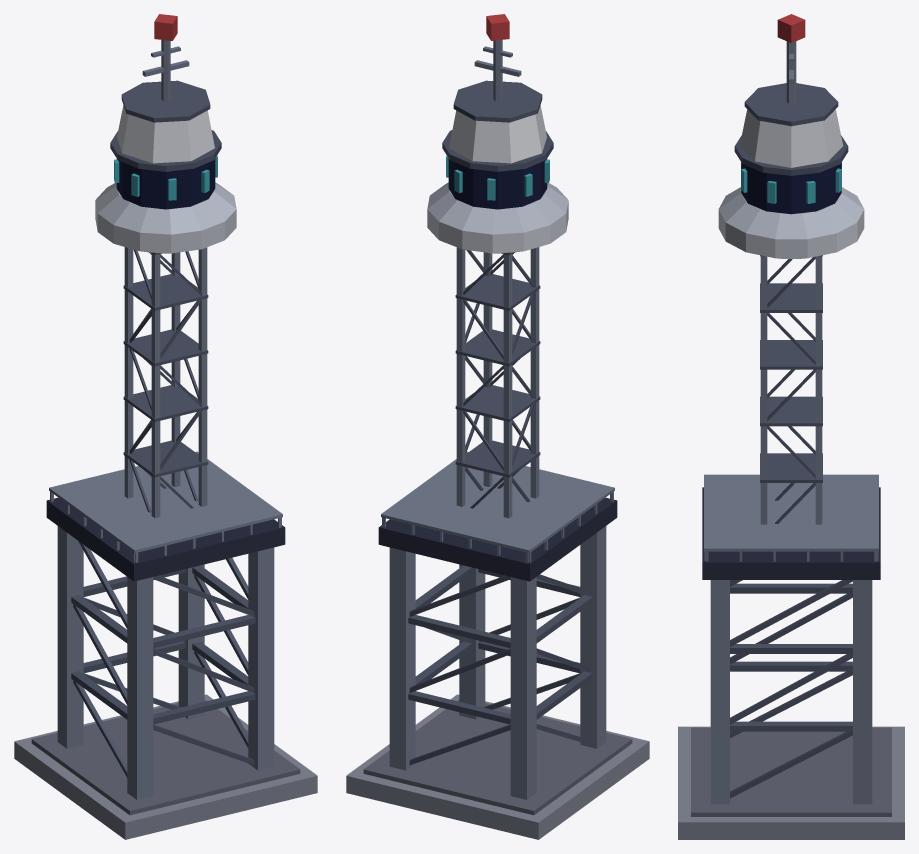
File: Decor_Observatory_Spire.fbx
3 views of the same model, side by side, from view 1: azimuth 30°, elevation 25°; view 2: azimuth 150°, elevation 25°; view 3: azimuth 270°, elevation 25° (orthographic). The views are drawn at different scales.
Visible parts, largest first — view 1: Spire_Body; view 2: Spire_Body; view 3: Spire_Body.
Boxes of the visible parts, x1,y1,x2,y2 form: Spire_Body: (14, 14, 317, 839); Spire_Body: (346, 14, 649, 839); Spire_Body: (678, 14, 904, 839).
Size of the model in its own units: 14 by 52.6 by 14.
